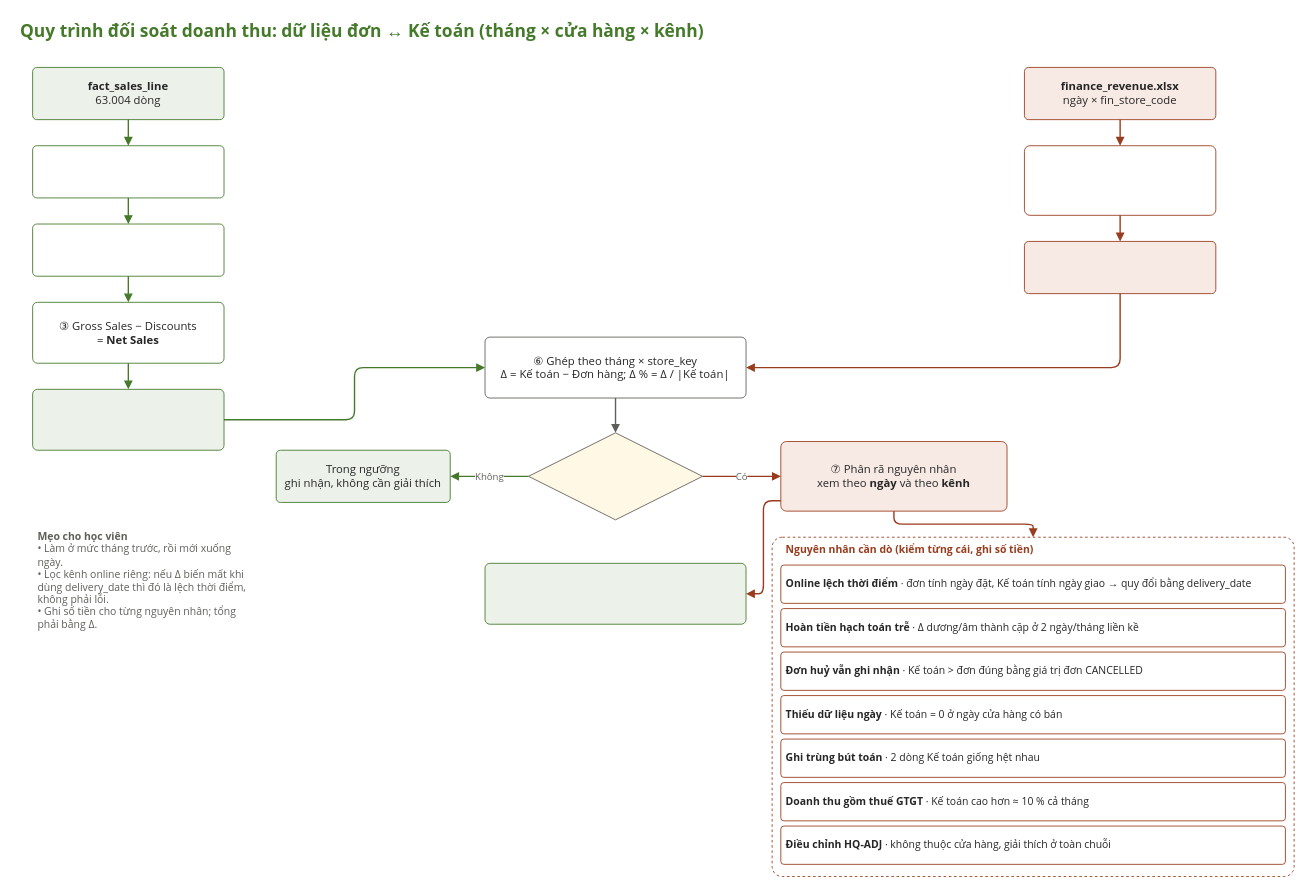
Some shapes in this 1309 by 892 pixel diagram are drawn without their labels. The shapes that lost their labels are listed below. From the top down, each one's box as (x1, y1, x2, y2) in pixels, then its label:
(32, 145, 224, 198): ① Bỏ dòng trùng (trùng hoàn toàn mọi cột)
(1024, 145, 1216, 215): ⑤ Map fin_store_code → store_key theo valid_from / valid_to tách riêng HQ-ADJ
(32, 223, 224, 276): ② Giữ đơn COMPLETED (loại CANCELLED, PENDING)
(1024, 241, 1216, 294): Σ net_revenue = Net Revenue (Kế toán)
(32, 388, 224, 450): ④ Net Sales − Returns = Net Revenue (đơn)
(528, 432, 703, 520): Vượt ngưỡng? |Δ| > 200 USD và |Δ%| > 1 %
(484, 562, 746, 624): ⑧ Bảng giải thích chênh lệch số tiền theo từng nguyên nhân · còn lại = 0
